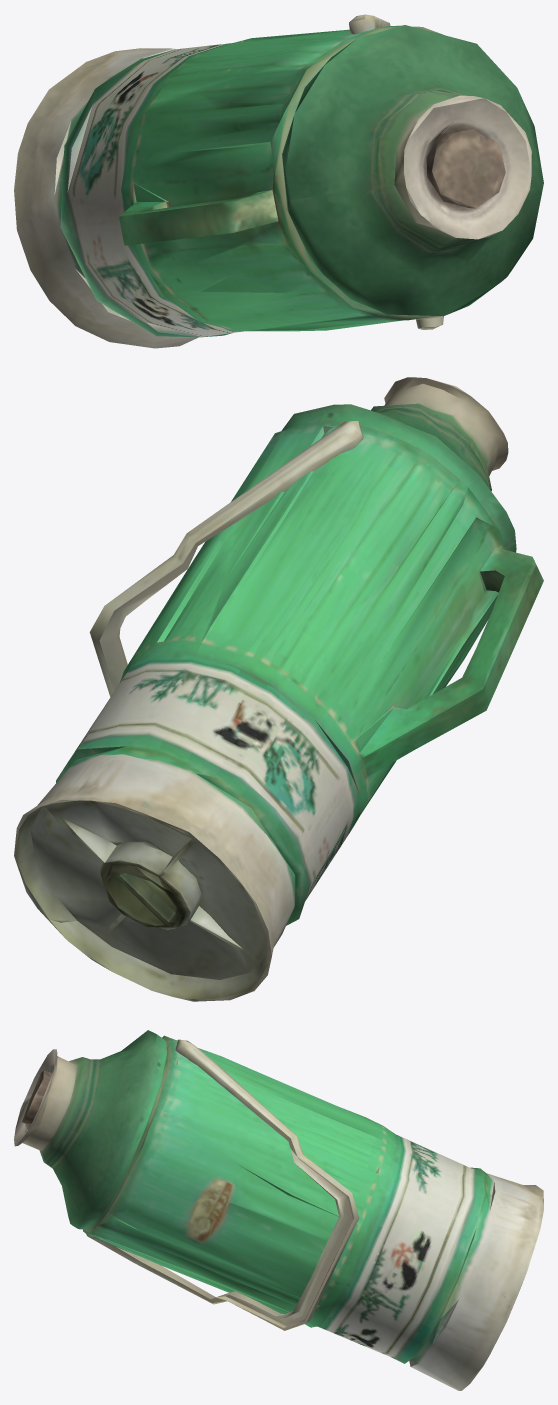
File: ThermosBottle.obj
3 views of the same model, one above another, from view 1: azimuth 30°, elevation 25°; view 2: azimuth 150°, elevation 25°; view 3: azimuth 270°, elevation 25° (orthographic). The views are drawn at different scales.
Parts seen in each view (by area): view 1: Ketle_5450_LOD5; view 2: Ketle_5450_LOD5; view 3: Ketle_5450_LOD5.
Part boxes in pixels (x1=…): Ketle_5450_LOD5: x1=14, y1=14, x2=543, y2=348; Ketle_5450_LOD5: x1=14, y1=377, x2=543, y2=1001; Ketle_5450_LOD5: x1=14, y1=1030, x2=543, y2=1390.
Bounding box in the file's own units: 1.72 × 2.21 × 3.13.
